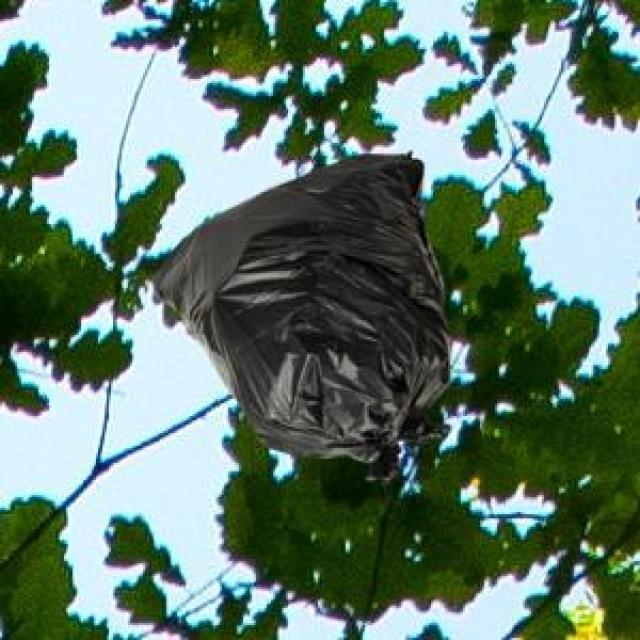waste: (155, 155, 449, 459)
